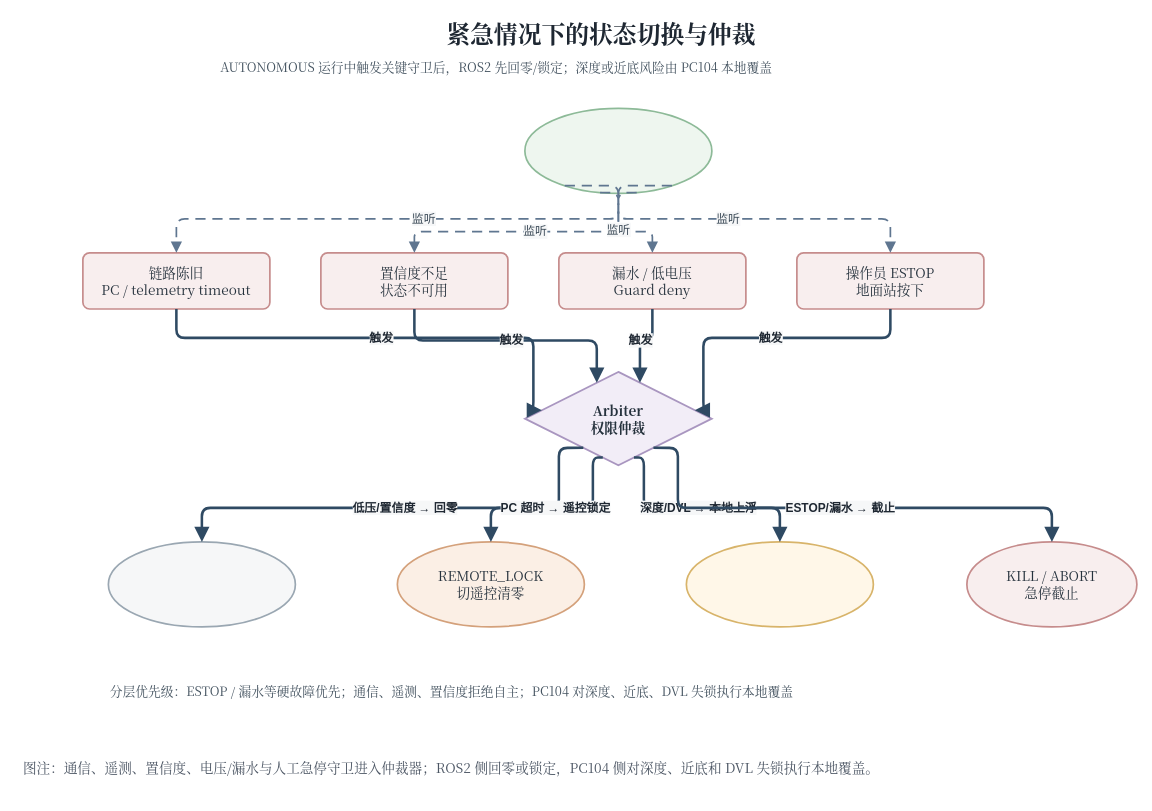
Some shapes in this 1152 by 811 pixel diagram are drawn without their labels. The shapes that lost their labels are listed below. From the top down, each one's centre as x and y in pixels, then its label:
(618,150): AUTONOMOUS 自主运行
(201,584): ZERO_FALLBACK 零指令保持
(779,584): LOCAL_SURFACE 上浮 / 防触底
